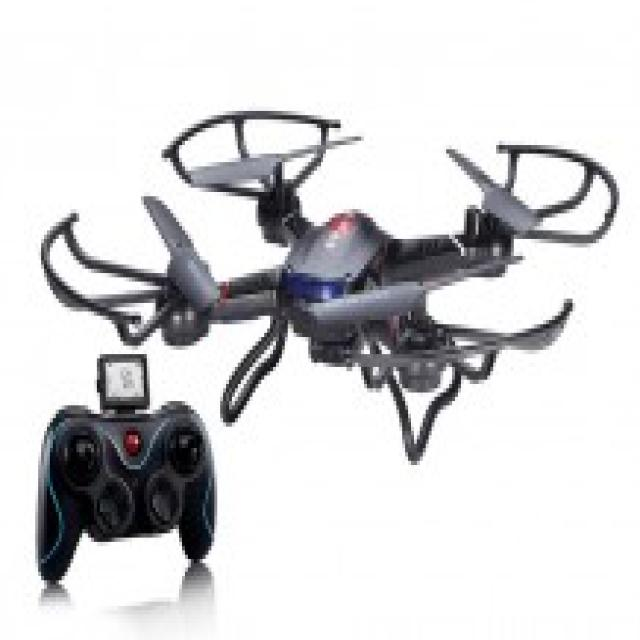drone: (44, 66, 620, 447)
